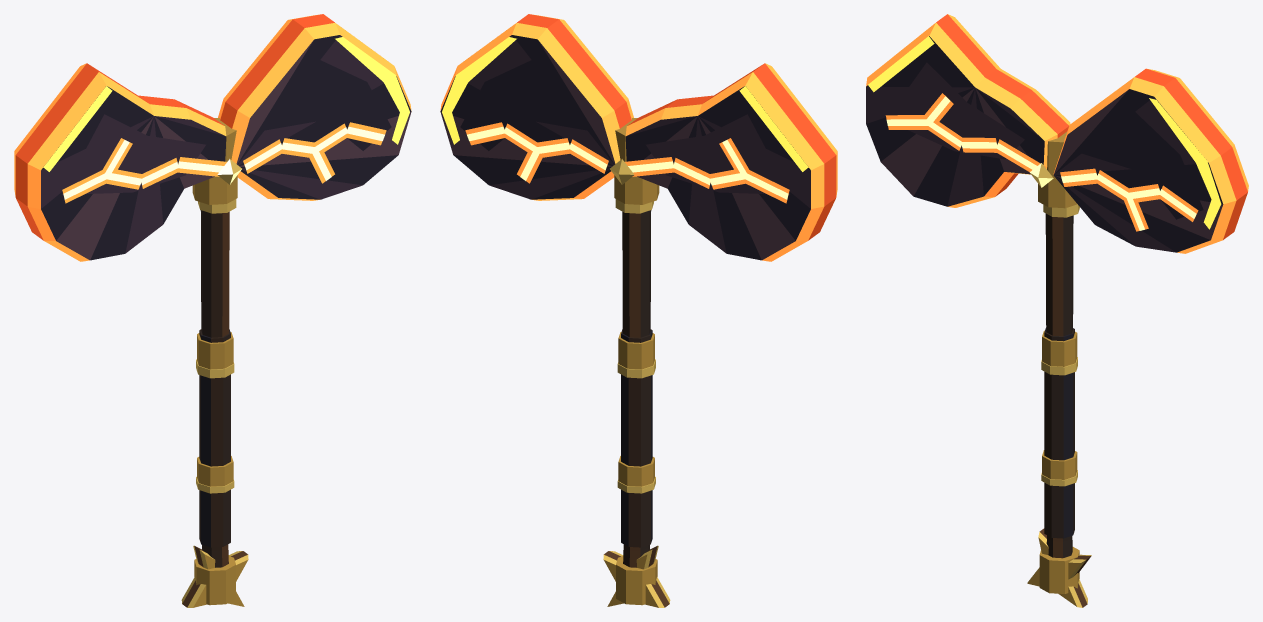
Rendered from lava_axe.glb.
3 renders of one model, left to right at view 1: azimuth 30°, elevation 25°; view 2: azimuth 150°, elevation 25°; view 3: azimuth 330°, elevation 25°, orthographic. The views are drawn at different scales.
Parts seen in each view (by area): view 1: 05_Left_Blade, 06_Right_Blade, 07_Dark_Facets, 02_Grip, 01_Charred_Shaft, 09_Molten_Cracks, 03_Gold_Bands, 10_Hot_Crack_Cores, 04_Pommel, 08_Hot_Edges, 11_Center_Collar; view 2: 05_Left_Blade, 06_Right_Blade, 07_Dark_Facets, 02_Grip, 01_Charred_Shaft, 09_Molten_Cracks, 03_Gold_Bands, 10_Hot_Crack_Cores, 04_Pommel, 08_Hot_Edges, 11_Center_Collar; view 3: 05_Left_Blade, 06_Right_Blade, 07_Dark_Facets, 02_Grip, 01_Charred_Shaft, 09_Molten_Cracks, 03_Gold_Bands, 10_Hot_Crack_Cores, 04_Pommel, 08_Hot_Edges, 11_Center_Collar.
Part boxes in pixels (<box>): 05_Left_Blade: <box>14,63,226,261</box>; 06_Right_Blade: <box>218,14,411,200</box>; 07_Dark_Facets: <box>62,58,391,194</box>; 02_Grip: <box>199,329,230,547</box>; 01_Charred_Shaft: <box>200,210,229,567</box>; 09_Molten_Cracks: <box>62,122,386,203</box>; 03_Gold_Bands: <box>196,199,236,493</box>; 10_Hot_Crack_Cores: <box>63,126,384,199</box>; 04_Pommel: <box>181,545,248,607</box>; 08_Hot_Edges: <box>43,37,409,171</box>; 11_Center_Collar: <box>192,118,237,204</box>; 05_Left_Blade: <box>625,63,837,261</box>; 06_Right_Blade: <box>440,14,633,200</box>; 07_Dark_Facets: <box>460,58,789,194</box>; 02_Grip: <box>621,329,652,547</box>; 01_Charred_Shaft: <box>622,210,651,567</box>; 09_Molten_Cracks: <box>465,122,789,203</box>; 03_Gold_Bands: <box>615,199,655,493</box>; 10_Hot_Crack_Cores: <box>467,126,788,199</box>; 04_Pommel: <box>603,545,670,607</box>; 08_Hot_Edges: <box>442,37,808,171</box>; 11_Center_Collar: <box>614,118,659,204</box>; 05_Left_Blade: <box>866,14,1070,207</box>; 06_Right_Blade: <box>1053,68,1248,253</box>; 07_Dark_Facets: <box>886,62,1203,219</box>; 02_Grip: <box>1044,327,1074,538</box>; 01_Charred_Shaft: <box>1045,213,1073,558</box>; 09_Molten_Cracks: <box>885,93,1198,231</box>; 03_Gold_Bands: <box>1041,204,1079,486</box>; 10_Hot_Crack_Cores: <box>886,96,1196,230</box>; 04_Pommel: <box>1027,528,1091,607</box>; 08_Hot_Edges: <box>868,36,1221,229</box>; 11_Center_Collar: <box>1038,131,1077,208</box>.
Size of the model in its own units: 0.8242 by 1.18 by 0.15.
